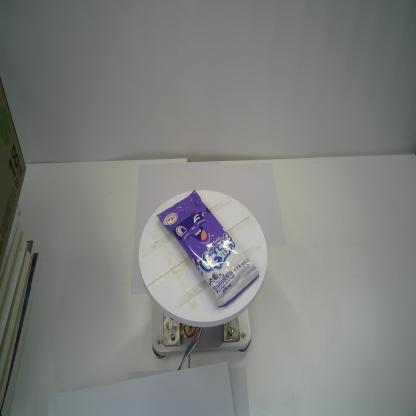Candy: (156, 189, 260, 309)
